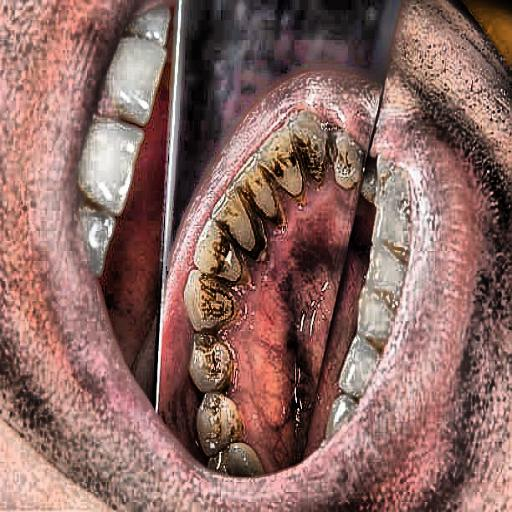Calculus: (190, 108, 326, 478)
